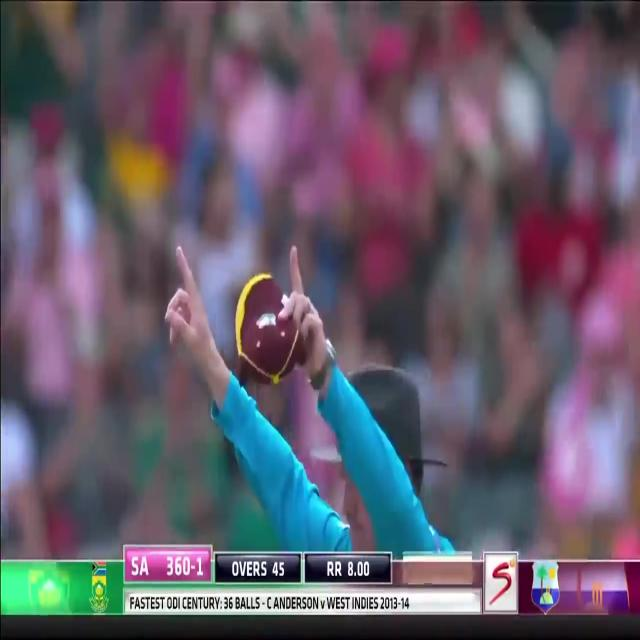Umpire: (116, 54, 423, 558)
